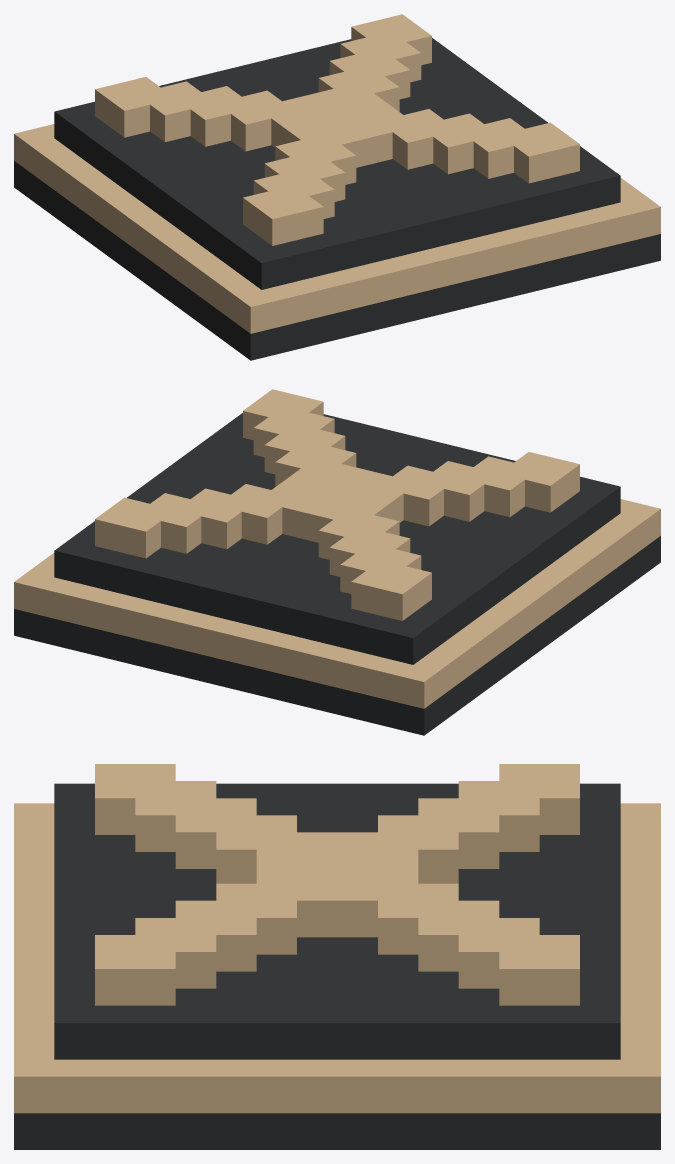
File: x-v1-black-tan.gltf
3 views of the same model, one above another, from view 1: azimuth 30°, elevation 25°; view 2: azimuth 150°, elevation 25°; view 3: azimuth 270°, elevation 25° (orthographic). The views are drawn at different scales.
Visible parts, largest first — view 1: Untitled; view 2: Untitled; view 3: Untitled.
Part boxes in pixels (box(x1,y1,x2,y2)): Untitled: box(14, 14, 660, 360); Untitled: box(14, 389, 660, 735); Untitled: box(14, 764, 660, 1149).
Size of the model in its own units: 1.6 by 0.4 by 1.6.
Materials: 1 (1 with a texture image).
